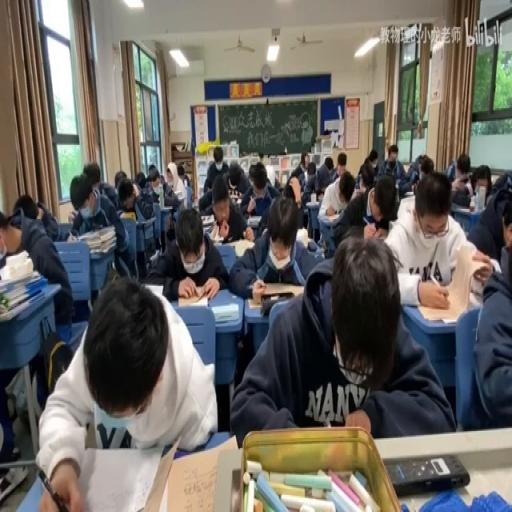calculator: (158, 436, 236, 512), (250, 282, 304, 307), (210, 302, 238, 322), (178, 290, 210, 304), (232, 238, 254, 256), (206, 223, 222, 243), (142, 283, 164, 296), (450, 202, 472, 213), (325, 209, 341, 221), (200, 213, 214, 225), (248, 297, 262, 309), (139, 214, 155, 224), (119, 209, 135, 219), (246, 215, 260, 226), (149, 248, 158, 263), (159, 203, 173, 212), (306, 198, 320, 206), (66, 232, 80, 240), (362, 216, 373, 225), (232, 196, 242, 205), (316, 192, 323, 201), (404, 191, 414, 196)
paper: (232, 232, 450, 445), (34, 274, 213, 510), (382, 166, 480, 304), (461, 194, 512, 426), (0, 199, 74, 340), (148, 205, 229, 300), (71, 168, 132, 279), (241, 159, 281, 232), (317, 166, 355, 236), (133, 189, 158, 256), (376, 142, 406, 195), (202, 144, 232, 194), (448, 154, 474, 206), (0, 209, 19, 256), (37, 200, 59, 240), (283, 164, 305, 199), (12, 193, 38, 222), (486, 171, 512, 199), (356, 160, 374, 194), (82, 161, 102, 189), (118, 183, 136, 212), (416, 155, 434, 179), (176, 162, 190, 188), (147, 164, 160, 186), (272, 164, 282, 189), (247, 164, 257, 186), (468, 172, 478, 192), (299, 152, 309, 171), (229, 172, 240, 189), (114, 171, 126, 186), (134, 171, 146, 186), (322, 155, 332, 171), (368, 148, 378, 163), (337, 154, 346, 170), (412, 176, 418, 192), (308, 162, 314, 176), (159, 174, 166, 186), (308, 175, 314, 186)
person: (384, 452, 470, 494)
